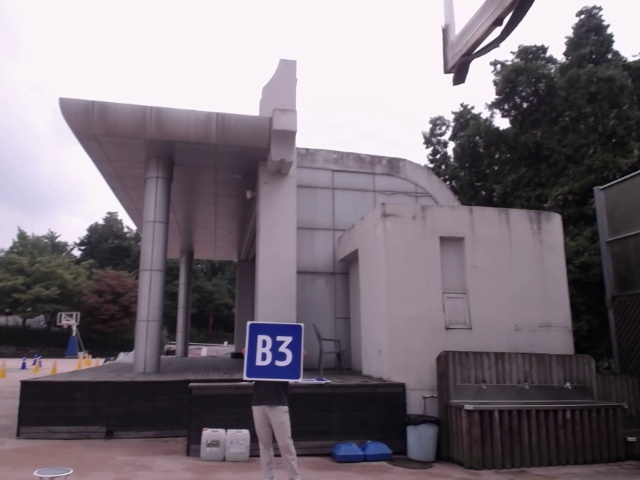delivery_b3: (246, 324, 304, 381)
